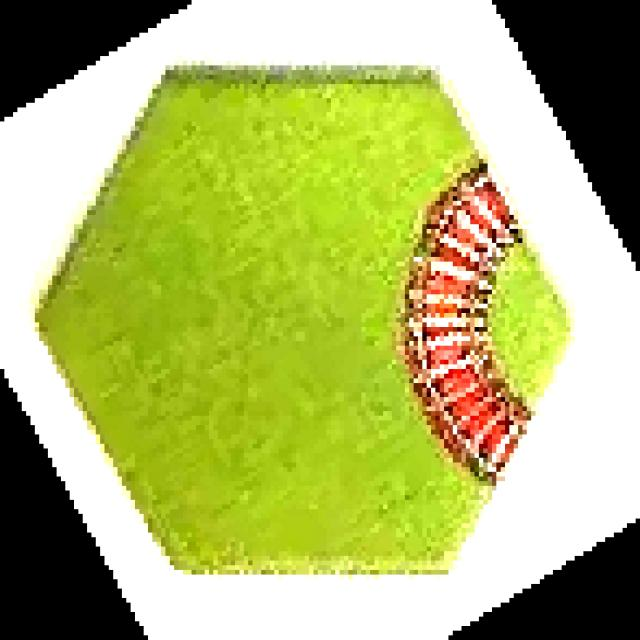1_2: (35, 56, 578, 578)
